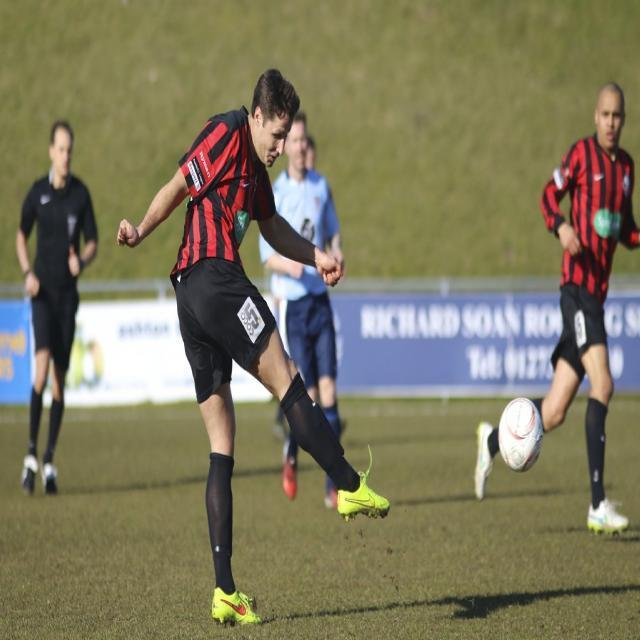football: (485, 395, 565, 479)
